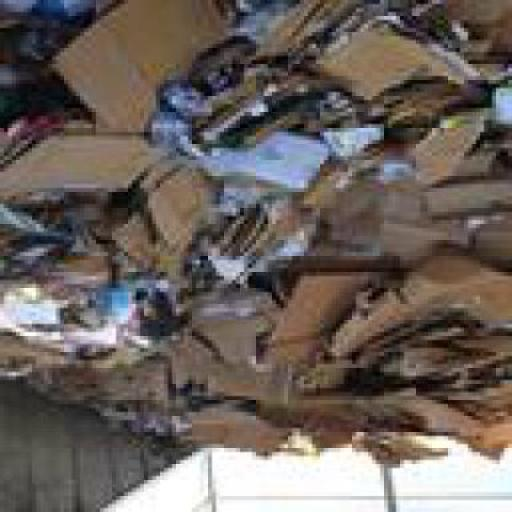cardboard: (4, 4, 510, 481), (327, 260, 511, 396), (44, 4, 228, 128), (263, 391, 511, 469), (172, 292, 332, 412), (327, 164, 511, 264), (4, 276, 192, 372), (312, 16, 484, 105), (268, 276, 404, 372), (308, 144, 424, 252), (4, 128, 180, 196), (204, 72, 340, 152), (4, 199, 120, 288), (36, 352, 180, 423), (212, 184, 316, 276), (216, 140, 356, 200), (156, 404, 304, 460), (4, 4, 96, 92), (160, 40, 256, 120), (264, 4, 392, 60), (412, 116, 496, 196), (4, 328, 156, 372), (372, 84, 496, 136), (412, 4, 511, 69), (112, 208, 201, 279), (148, 167, 212, 256), (360, 432, 452, 471), (232, 4, 300, 48), (60, 252, 136, 280), (487, 76, 511, 149)
